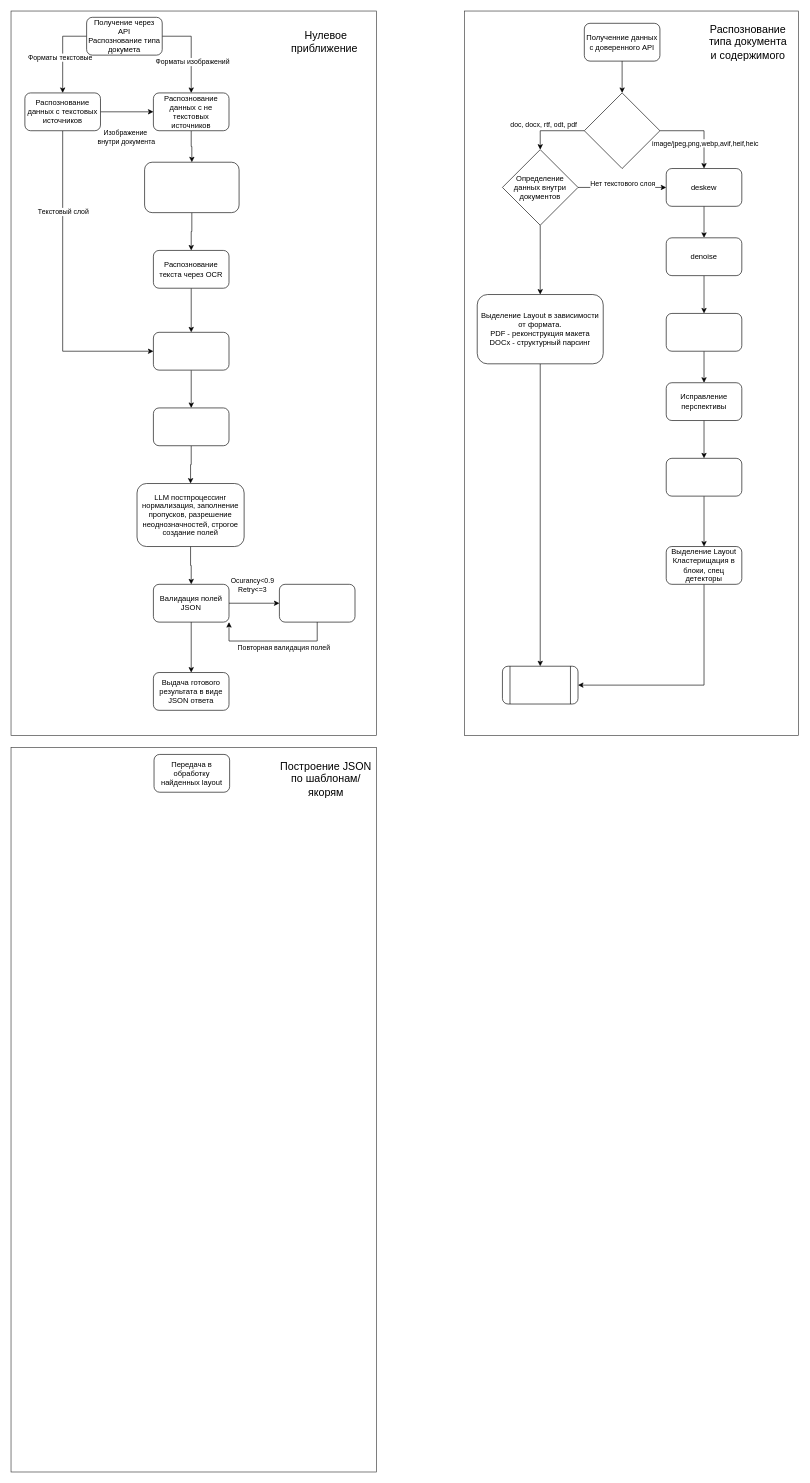
This 810x1483 diagram has some shape labels left out. The centre of each missing label's shape, as x and y in pixels:
"Анализ макета (layout)" belongs at [191,351].
"Бинаризация" belongs at [704,332].
"Вызов OCR. Получение text, bounding boxes, confidence" belongs at [704,477].
"Исправление ошибок через LLM / в ручную" belongs at [317,603].
"Поиск полей" belongs at [540,685].
"Поиск полей по шаблонам/якорям добавление в JSON" belongs at [191,426].
"Препроцессинг - выпрямление перспективы, испрвление дефектов, denoise, deskew" belongs at [191,187].
"Распозночание по списку форматов" belongs at [622,130].
